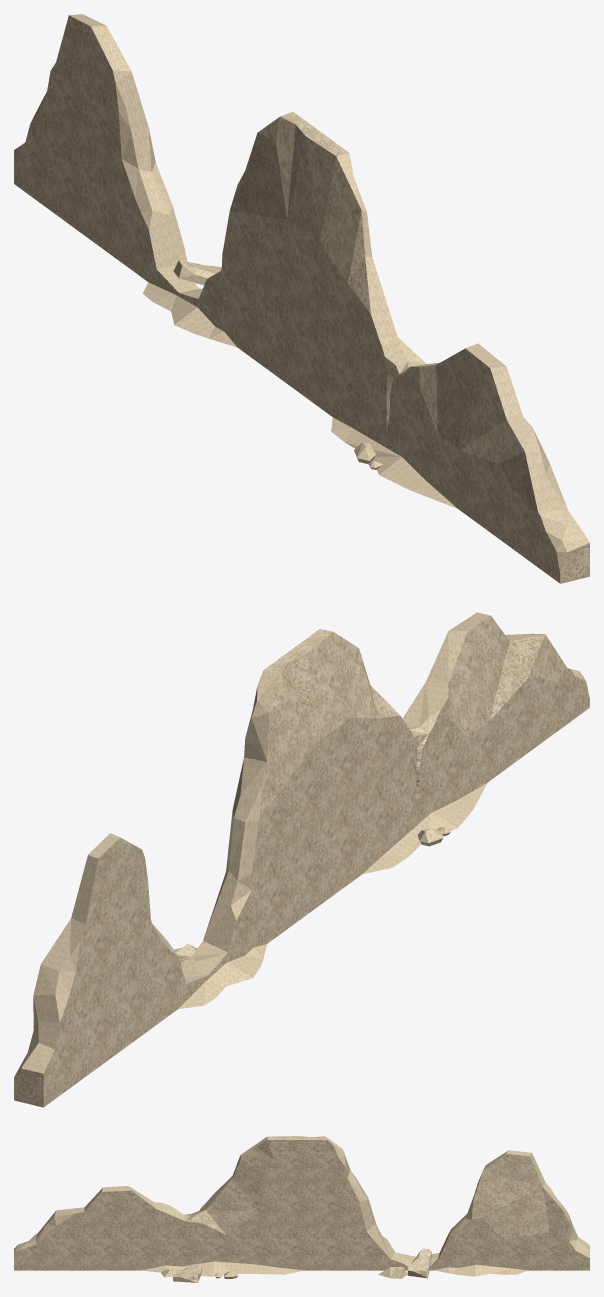
File: thm_tato_imprv_wall_ruin_s01_l0.fbx
3 views of the same model, one above another, from view 1: azimuth 30°, elevation 25°; view 2: azimuth 150°, elevation 25°; view 3: azimuth 270°, elevation 25° (orthographic). The views are drawn at different scales.
Visible parts, largest first — view 1: mesh_node; view 2: mesh_node; view 3: mesh_node.
Part boxes in pixels (x1=…): mesh_node: x1=14, y1=14, x2=589, y2=583; mesh_node: x1=14, y1=612, x2=589, y2=1107; mesh_node: x1=14, y1=1136, x2=589, y2=1282.
Bounding box in the file's own units: 1.8 × 4.01 × 16.
